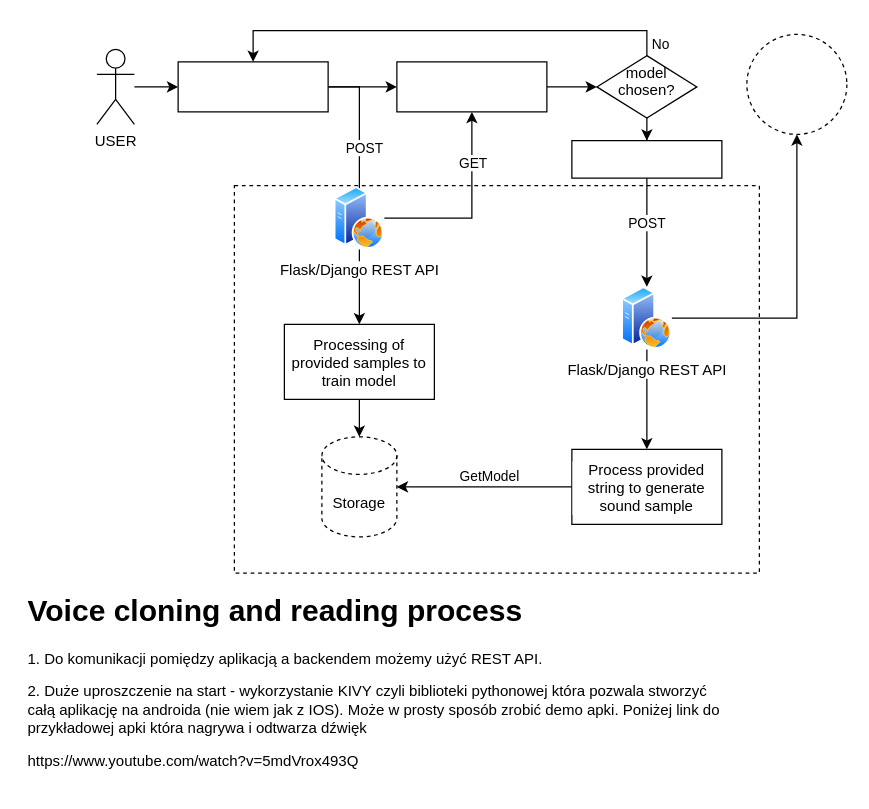
The diagram is 869 pixels wide and 809 high, and some of its shapes have lost their labels. Here are the shapes that lost their labels. From the top down, the centre of each, then its label:
[252,86]: Record/Upload sound file
[471,86]: List of trained models
[796,83]: Result
[646,158]: Text to process
